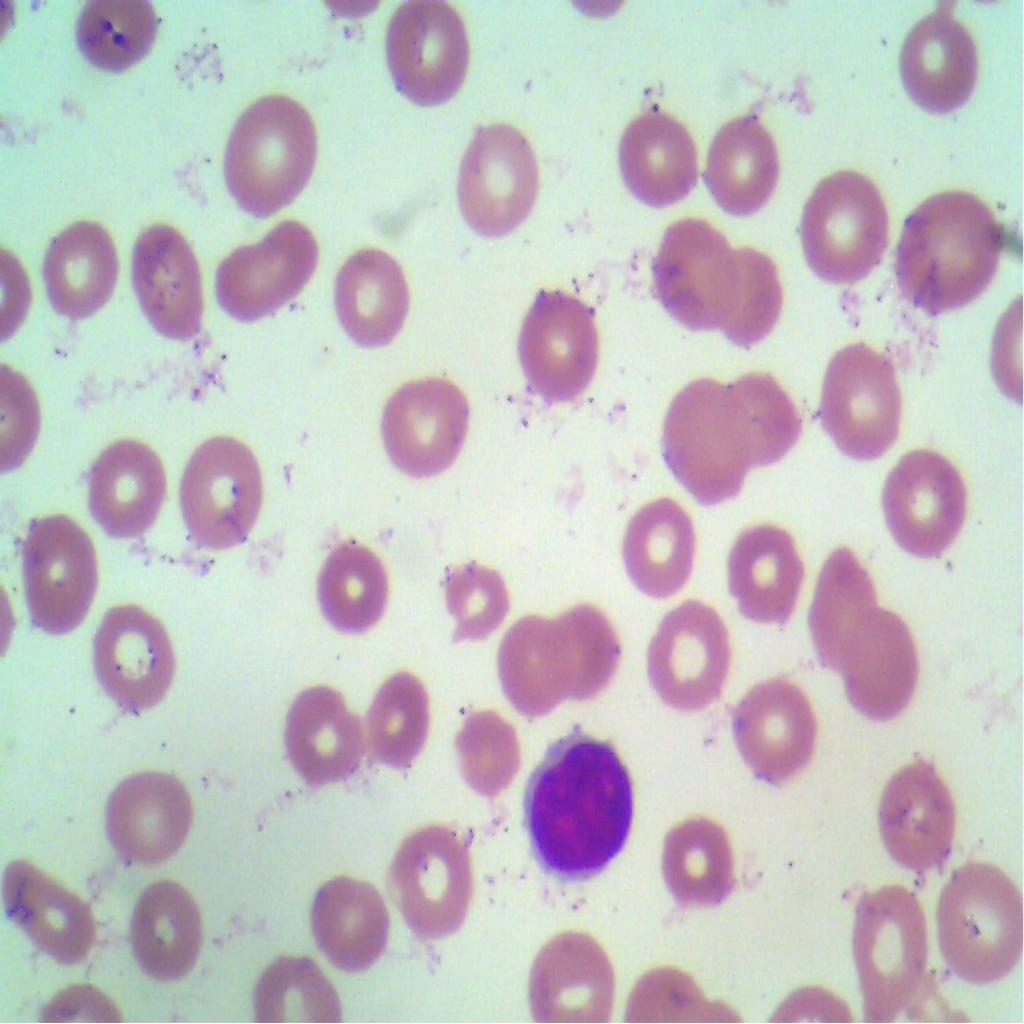Eritrosit: (898, 178, 1015, 334), (219, 81, 321, 230), (834, 870, 931, 1023), (444, 111, 551, 245), (170, 426, 273, 561), (214, 208, 323, 335), (0, 842, 116, 961), (2, 514, 106, 645), (376, 0, 484, 124), (274, 669, 371, 801), (934, 852, 1023, 995), (506, 278, 603, 408), (878, 451, 976, 575), (78, 598, 178, 718), (68, 426, 166, 548), (878, 737, 962, 879), (798, 161, 889, 291), (26, 207, 126, 325), (131, 218, 211, 364), (824, 331, 913, 462), (890, 0, 987, 118), (610, 84, 698, 212), (301, 852, 391, 977), (439, 687, 528, 811), (118, 875, 212, 991), (376, 361, 466, 482), (790, 547, 878, 669), (649, 589, 731, 718), (652, 211, 738, 331), (355, 655, 433, 787), (840, 602, 926, 721), (731, 685, 821, 798), (695, 108, 784, 222), (663, 376, 742, 502), (326, 239, 414, 351), (390, 818, 470, 941), (519, 922, 616, 1023), (713, 364, 806, 468), (618, 487, 698, 607), (106, 764, 201, 864), (653, 808, 739, 918), (494, 602, 578, 714), (304, 535, 394, 638), (729, 505, 803, 625), (702, 248, 786, 349), (426, 545, 513, 639), (258, 935, 346, 1023), (546, 600, 628, 694), (66, 0, 182, 64)
Limfoblast: (522, 731, 638, 879)
